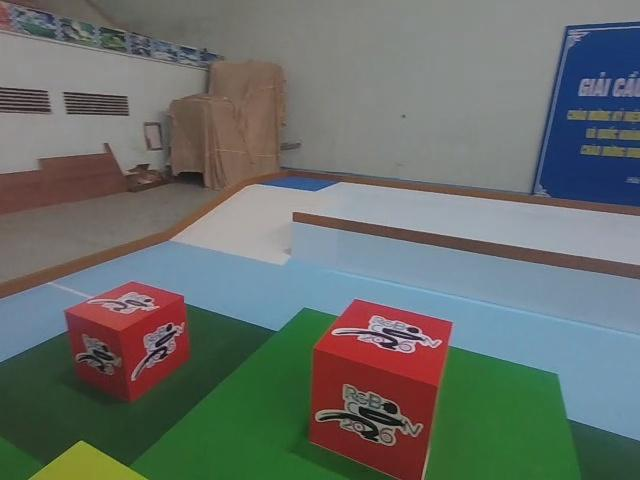R1: (310, 298, 454, 480), (66, 281, 189, 404)
